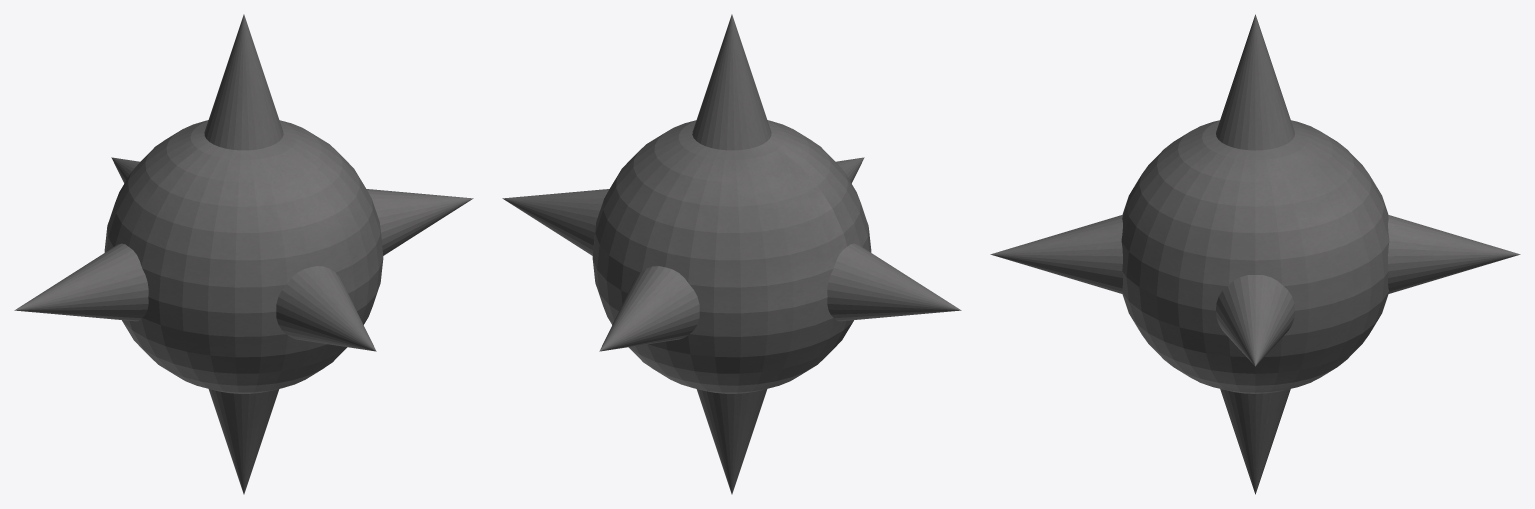
The model's file is deadBlock.obj.
3 views of the same model, side by side, from view 1: azimuth 30°, elevation 25°; view 2: azimuth 150°, elevation 25°; view 3: azimuth 270°, elevation 25° (orthographic).
Parts seen in each view (by area): view 1: 円錐.004; view 2: 円錐.004; view 3: 円錐.004.
Boxes of the visible parts, x1=… form: 円錐.004: x1=14, y1=14, x2=473, y2=494; 円錐.004: x1=502, y1=14, x2=961, y2=494; 円錐.004: x1=990, y1=14, x2=1520, y2=494.
Bounding box in the file's own units: 1.9 × 1.9 × 1.9.
Materials: 1 (1 with a texture image).
